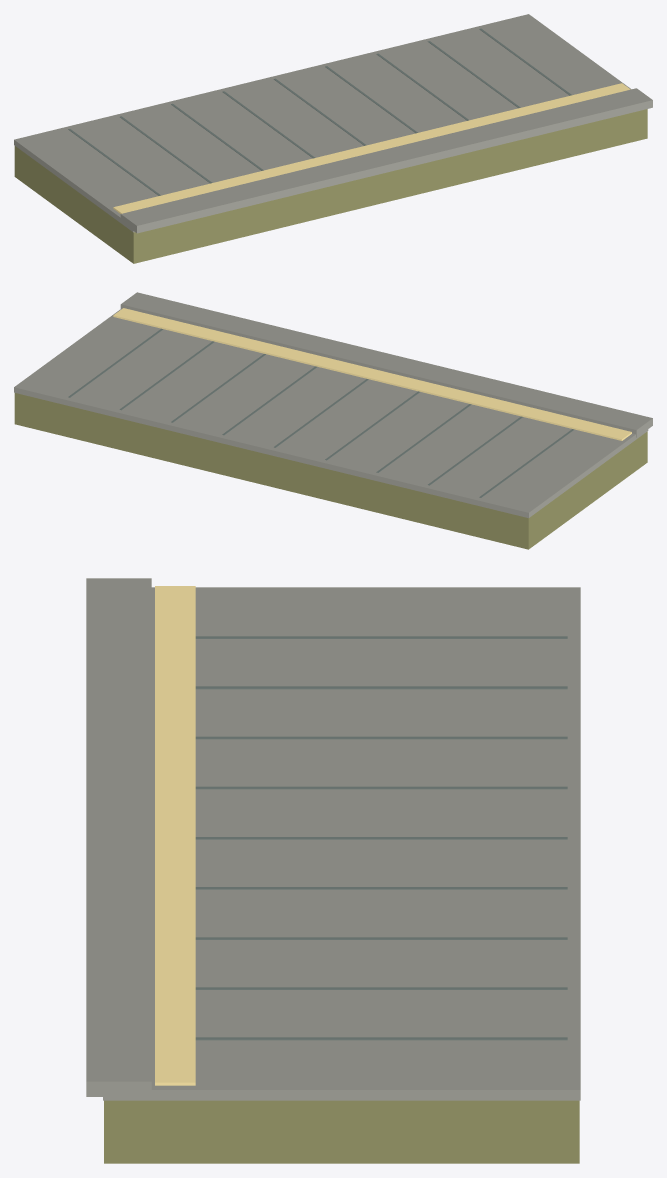
File: SM_KitAnden_v4_LOD0.fbx
The picture shows the model from 3 angles, top to bottom: view 1: azimuth 30°, elevation 25°; view 2: azimuth 150°, elevation 25°; view 3: azimuth 270°, elevation 25°; orthographic projection. The views are drawn at different scales.
Visible parts, largest first — view 1: SM_bloques.kit_anden_v4_LOD0; view 2: SM_bloques.kit_anden_v4_LOD0; view 3: SM_bloques.kit_anden_v4_LOD0.
Boxes of the visible parts, x1,y1,x2,y2 form: SM_bloques.kit_anden_v4_LOD0: (14,14,652,263); SM_bloques.kit_anden_v4_LOD0: (14,292,652,549); SM_bloques.kit_anden_v4_LOD0: (86,578,580,1163).
Size of the model in its own units: 10.02 by 0.77 by 4.16.
